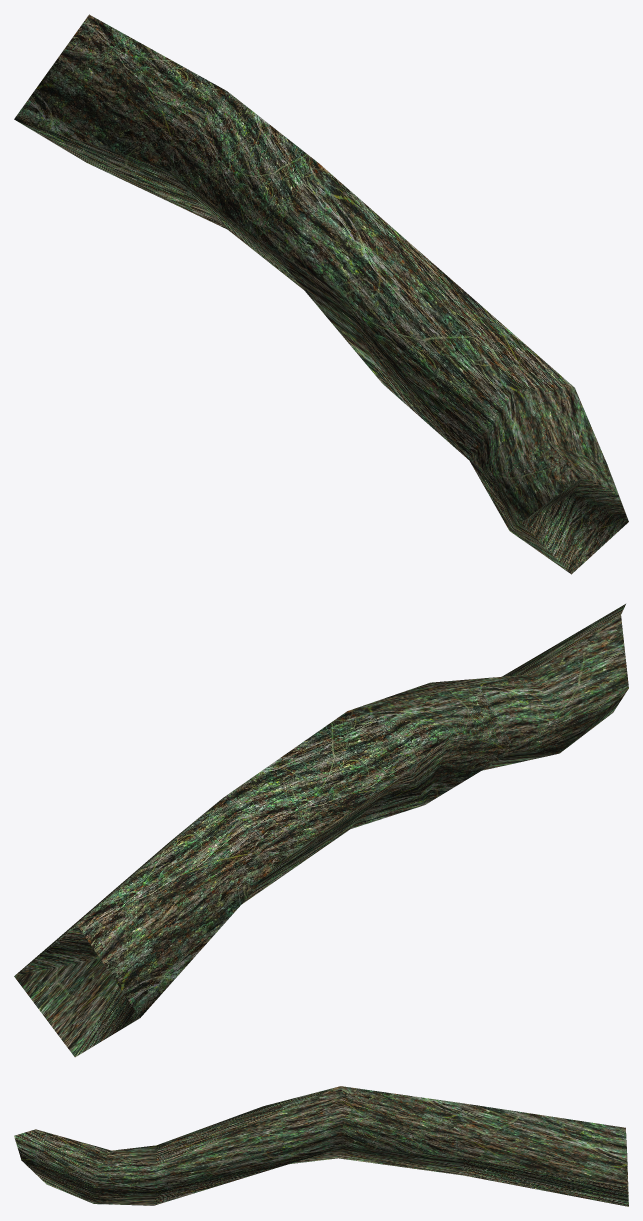
Rendered from decd_dath_overgrownbranch_a2_l1.fbx.
3 renders of one model, top to bottom at view 1: azimuth 30°, elevation 25°; view 2: azimuth 150°, elevation 25°; view 3: azimuth 270°, elevation 25°, orthographic. The views are drawn at different scales.
Visible parts, largest first — view 1: mesh_node; view 2: mesh_node; view 3: mesh_node.
Part boxes in pixels (x1,y1,x2,y2): mesh_node: (14, 14, 628, 574); mesh_node: (14, 604, 628, 1057); mesh_node: (14, 1086, 628, 1206).
Bounding box in the file's own units: 1.52 × 1.79 × 8.86.
Materials: 1 (1 with a texture image).
